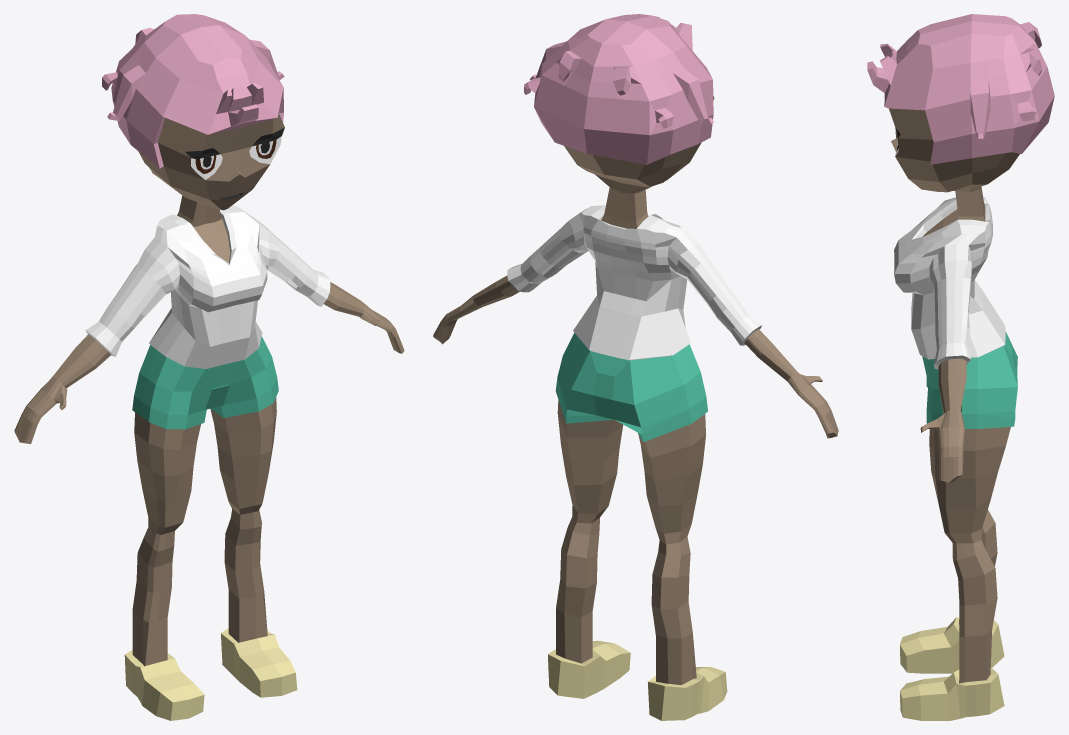
The model's file is LowPolyGirl.fbx.
3 views of the same model, side by side, from view 1: azimuth 30°, elevation 25°; view 2: azimuth 150°, elevation 25°; view 3: azimuth 270°, elevation 25° (orthographic). The views are drawn at different scales.
Visible parts, largest first — view 1: Cylinder; view 2: Cylinder; view 3: Cylinder.
Part boxes in pixels (x1,y1,x2,y2): Cylinder: (14,14,404,720); Cylinder: (433,14,838,720); Cylinder: (867,14,1054,720).
Bounding box in the file's own units: 426 × 695 × 177.
